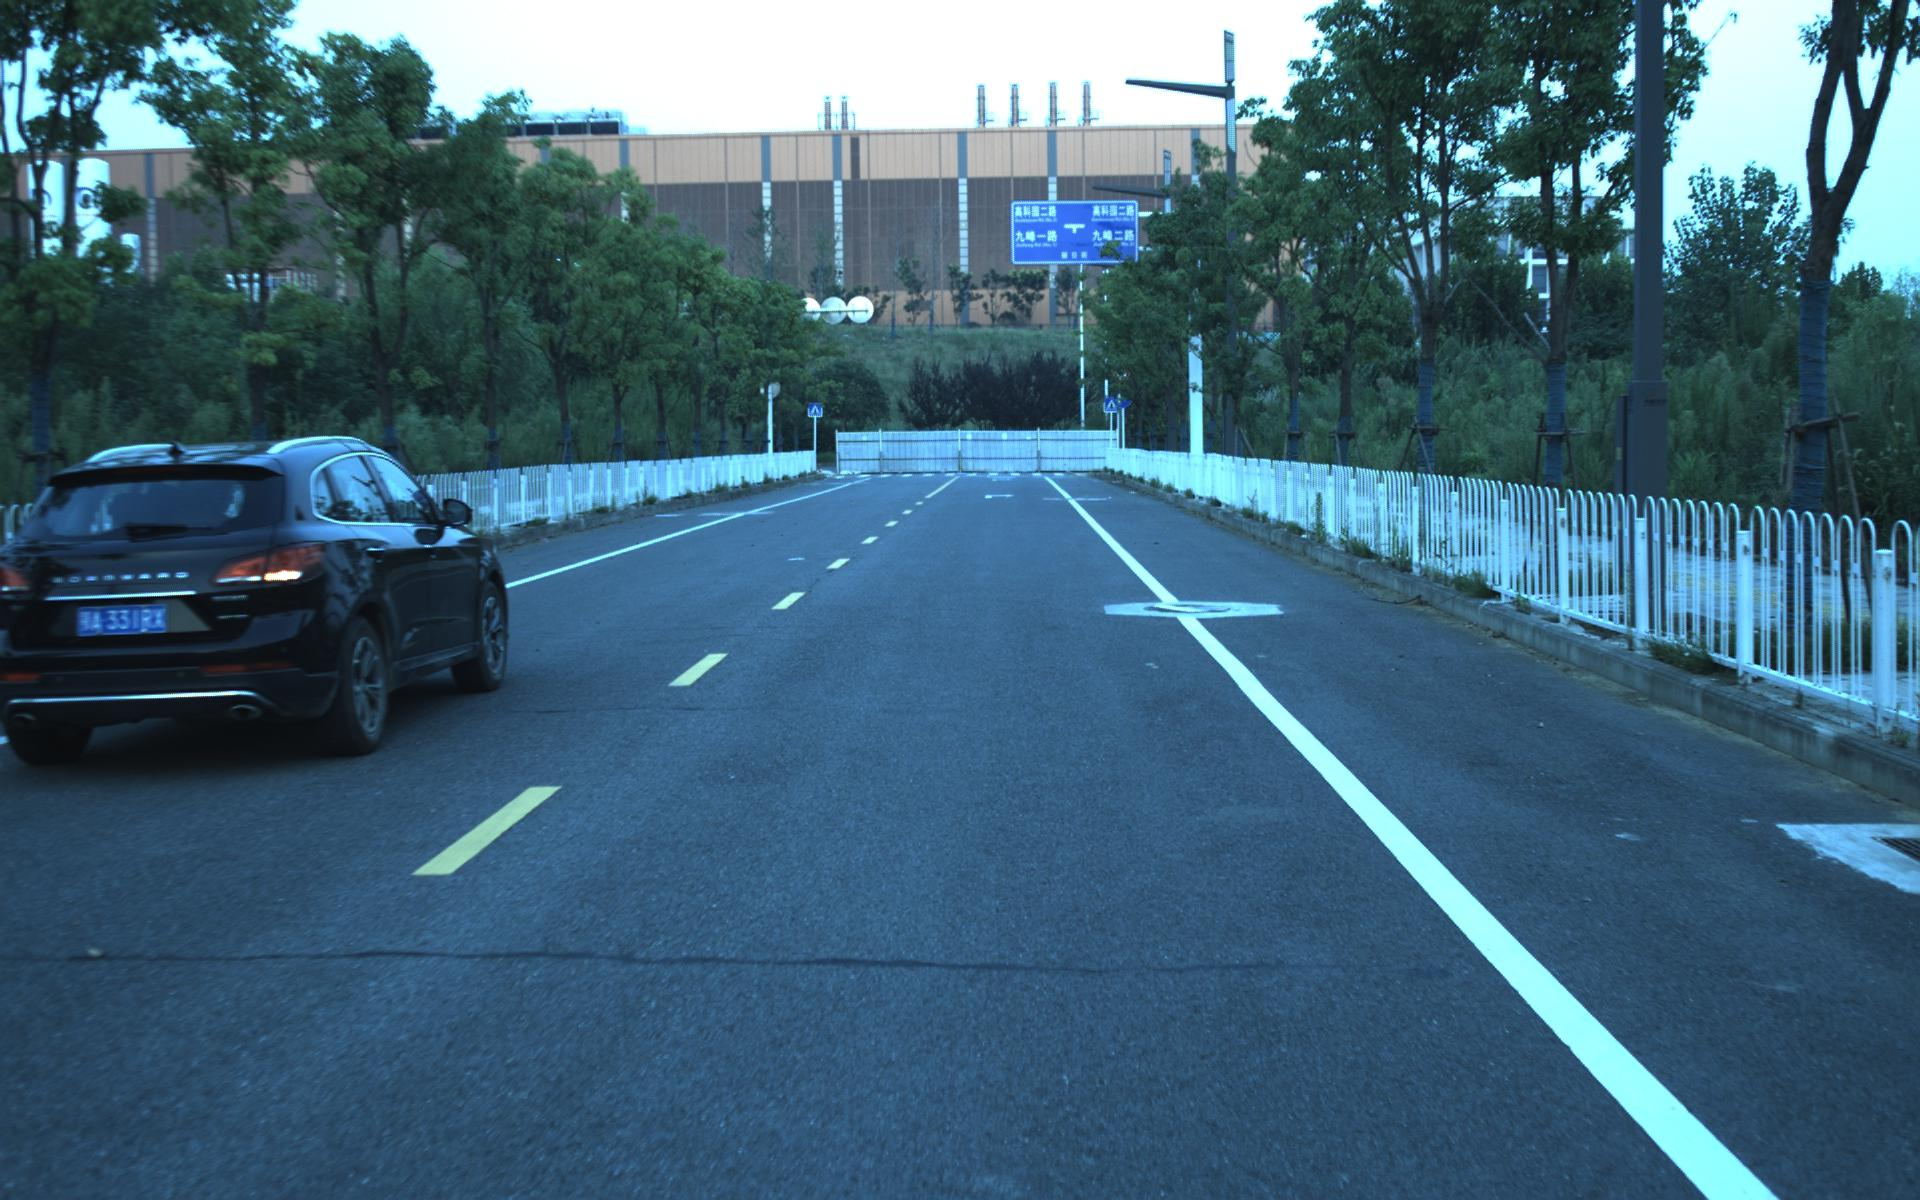Car: (1, 422, 514, 771)
